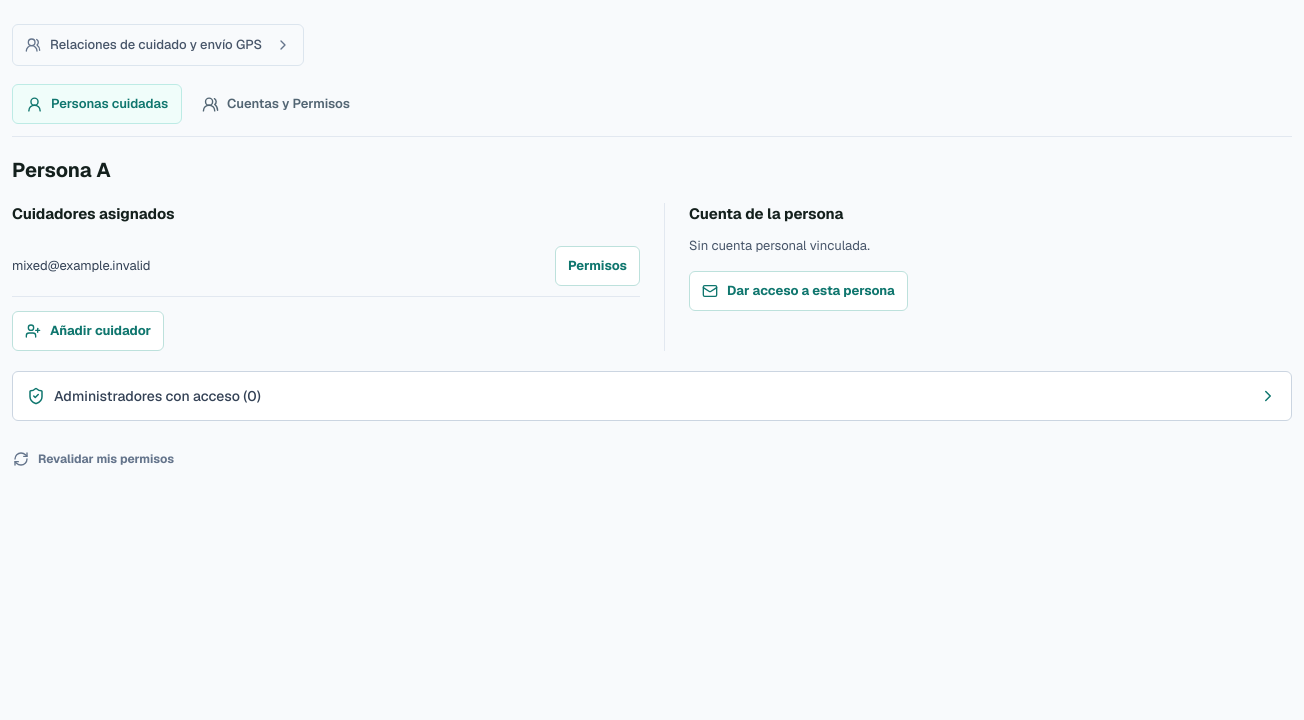
Test: heterogeneous permissions cannot be silently normalized
Expected: the text "mixed@example.invalid" is shown, [12,256,151,276]
Click the button "Permisos" at {"x": 598, "y": 266}, box [555,246,640,286]
(page scrolled)
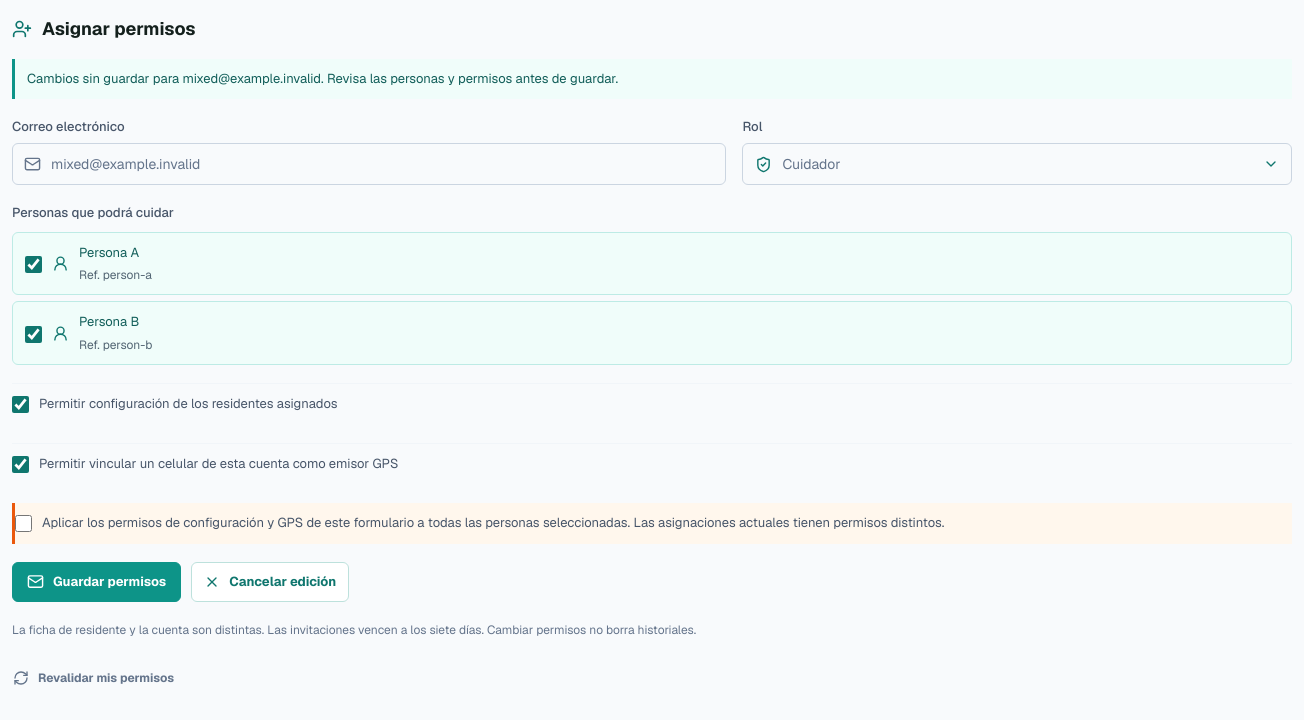
Expected: the button "Guardar permisos" is disabled, [12,562,181,602]
Expected: the checkbox named "Las asignaciones actuales tienen permisos distintos" is shown, [15,515,32,532]
